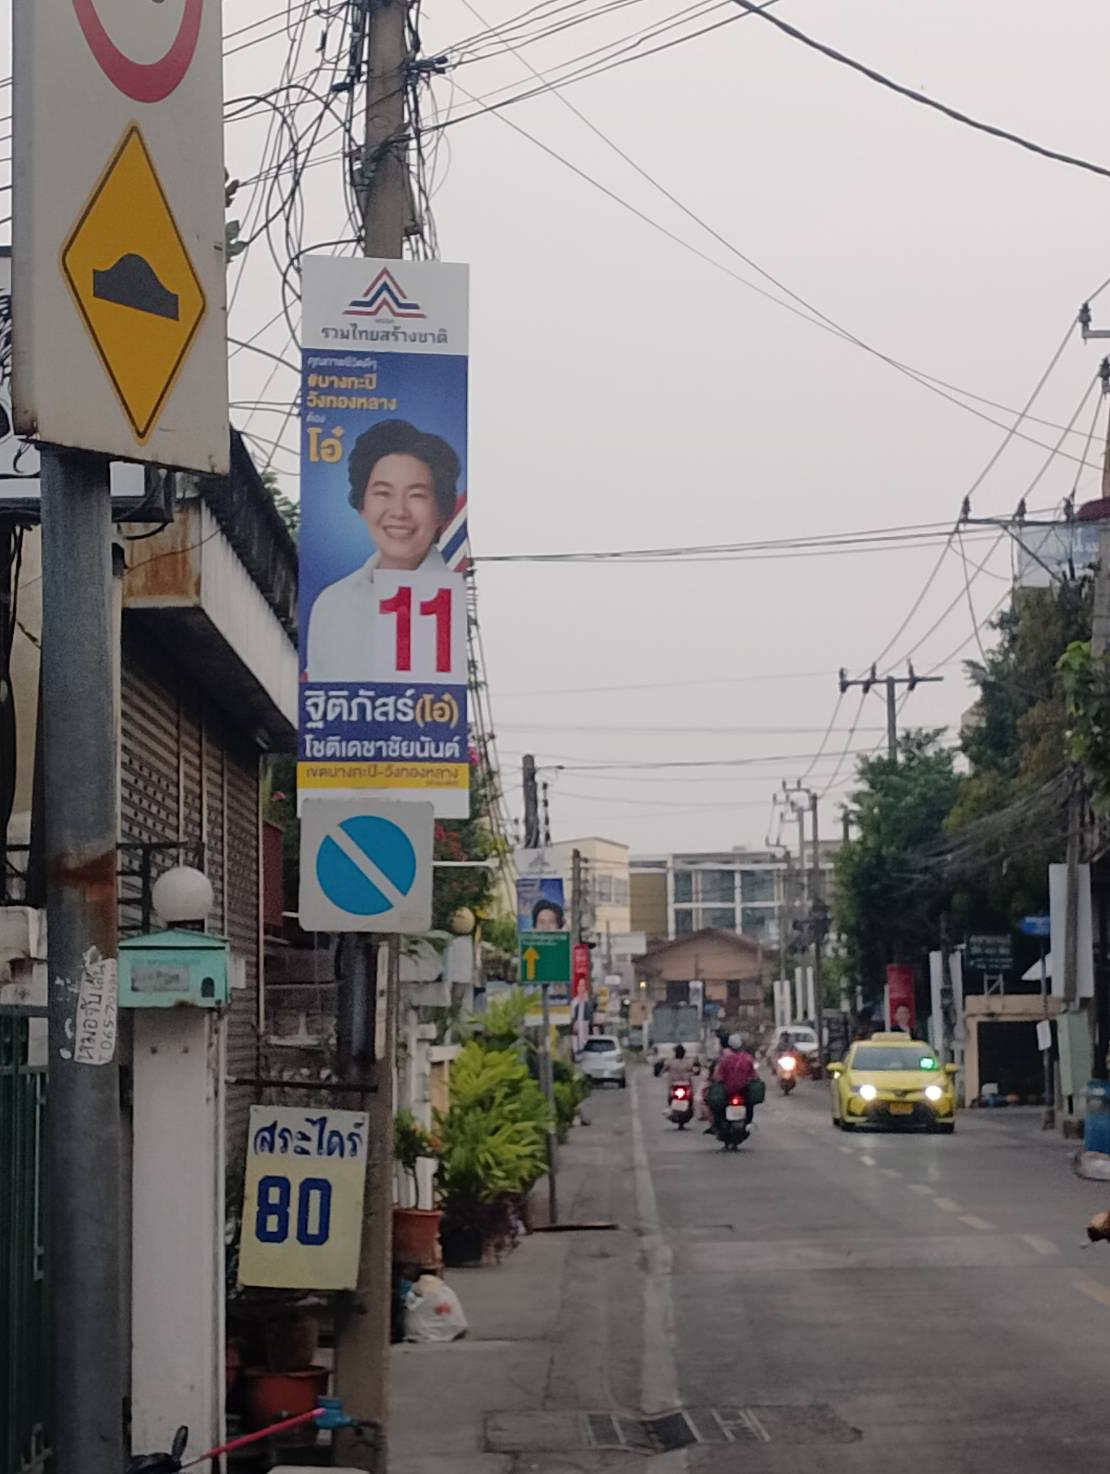Banner: (284, 254, 475, 812)
